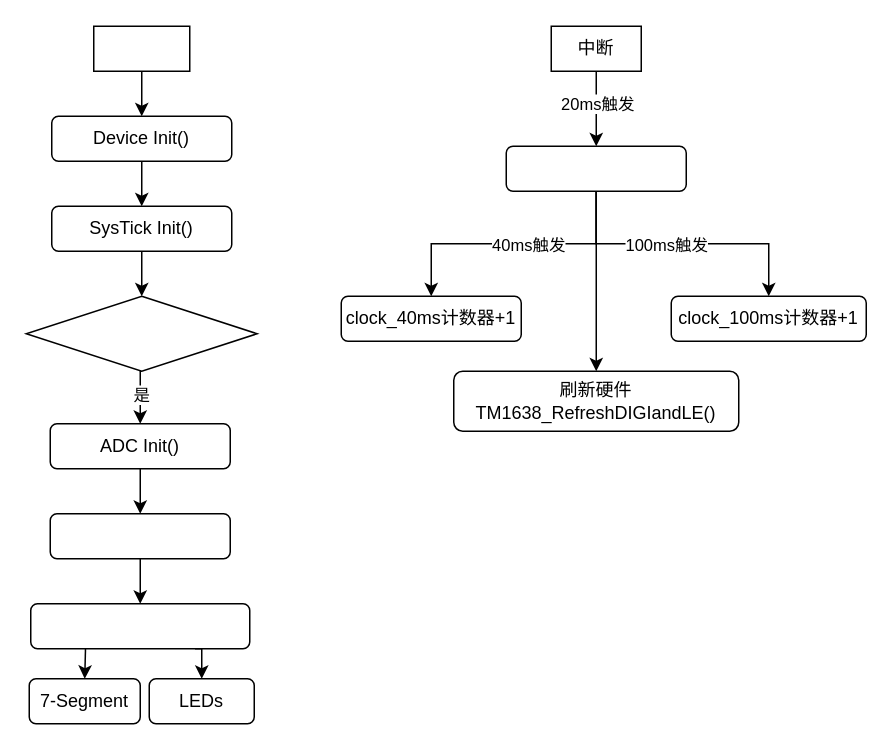
The diagram is 893 pixels wide and 750 high, and some of its shapes have lost their labels. Each missing label, with the centre of its shape:
"ADC Sample()" belongs at [139,535].
"clock40ms_flag置位" belongs at [141,333].
"start" belongs at [141,48].
"SysTick_Handler()" belongs at [595,168].
"电压值计算（滑动窗口）" belongs at [139,625].
